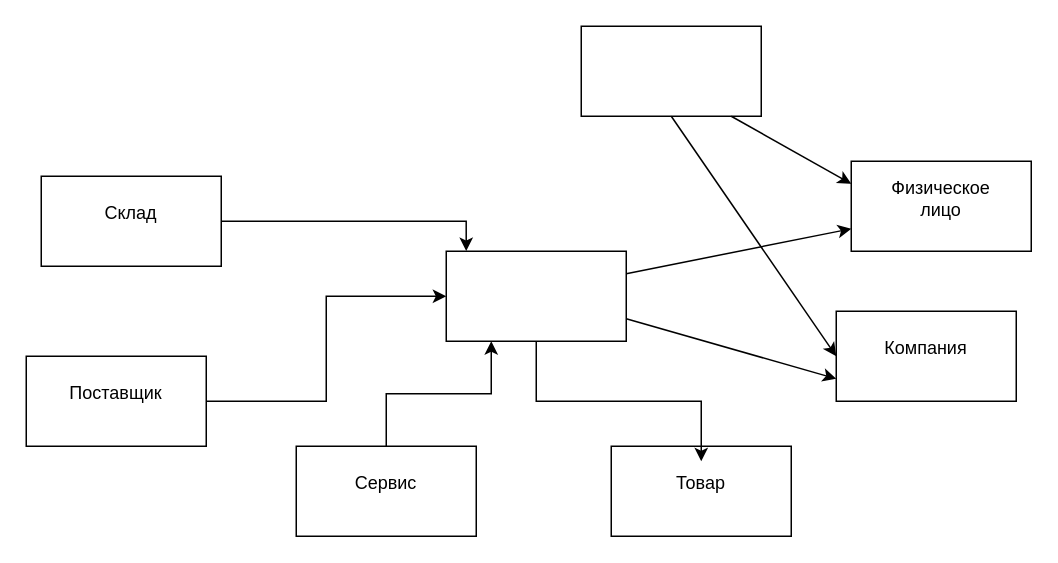
This 1058x563 diagram has some shape labels left out. Each missing label, with the centre of its shape:
"заказ" belongs at point (535, 295).
"Отмененный заказ" belongs at point (670, 70).
